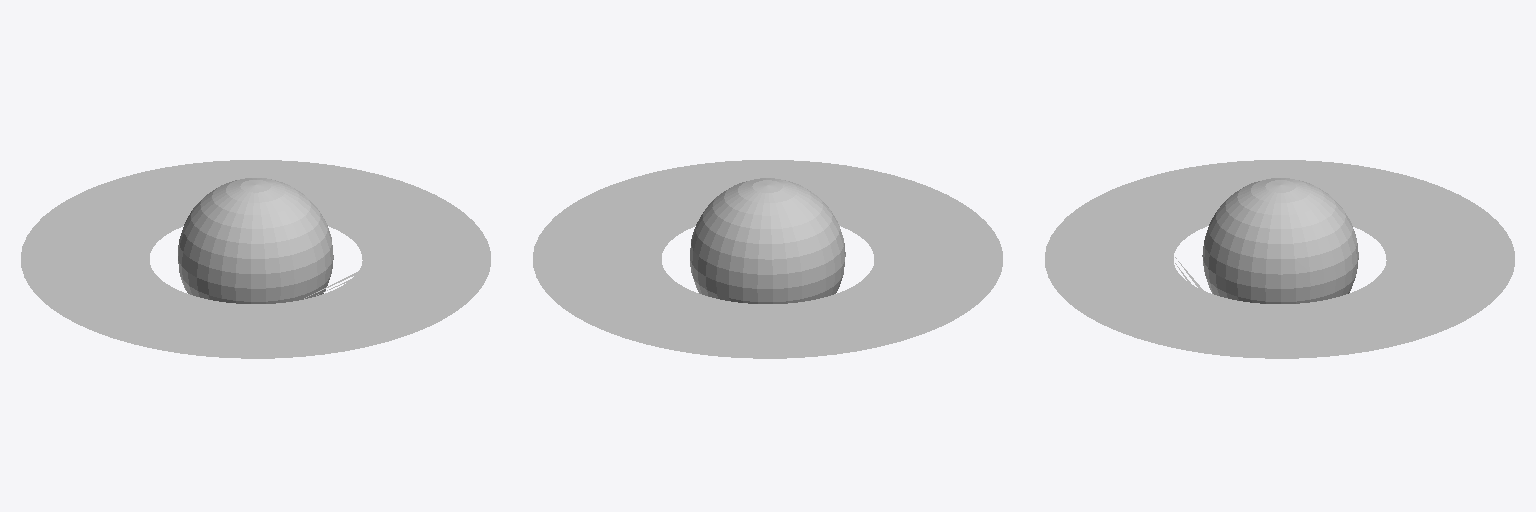
Rendered from gargantuaCentro.obj.
3 views of the same model, side by side, from view 1: azimuth 30°, elevation 25°; view 2: azimuth 150°, elevation 25°; view 3: azimuth 270°, elevation 25° (orthographic).
Visible parts, largest first — view 1: Disk_GArgantua:Cylinder001, Sphere_Gargantua:Sphere002; view 2: Disk_GArgantua:Cylinder001, Sphere_Gargantua:Sphere002; view 3: Disk_GArgantua:Cylinder001, Sphere_Gargantua:Sphere002.
Boxes of the visible parts, <box> form: Disk_GArgantua:Cylinder001: <box>21,160,490,358</box>; Sphere_Gargantua:Sphere002: <box>178,178,333,303</box>; Disk_GArgantua:Cylinder001: <box>533,160,1002,358</box>; Sphere_Gargantua:Sphere002: <box>690,178,845,303</box>; Disk_GArgantua:Cylinder001: <box>1045,160,1514,358</box>; Sphere_Gargantua:Sphere002: <box>1202,178,1358,303</box>.
Bounding box in the file's own units: 10.9 × 3.62 × 10.9.